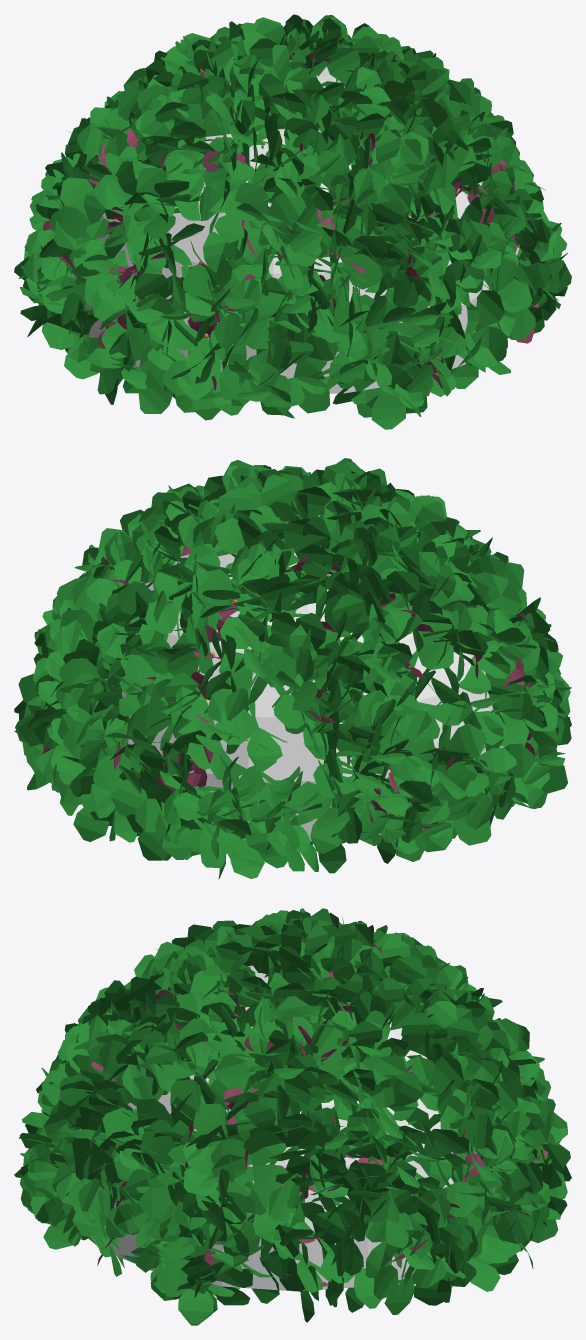
File: bush_berries.fbx
3 renders of one model, top to bottom at view 1: azimuth 30°, elevation 25°; view 2: azimuth 150°, elevation 25°; view 3: azimuth 270°, elevation 25°, orthographic.
Visible parts, largest first — view 1: Sphere.001, Sphere.001|leaf|Dupli|709, Sphere.001|leaf|Dupli|798, Sphere.001|leaf|Dupli|305, Sphere.001|leaf|Dupli|56, Sphere.001|leaf|Dupli|568, Sphere.001|leaf|Dupli|214, Sphere.001|leaf|Dupli|563, Sphere.001|leaf|Dupli|4, Sphere.001|leaf|Dupli|210, Sphere.001|leaf|Dupli|539, Sphere.001|leaf|Dupli|731 (+124 smaller); view 2: Sphere.001, Sphere.001|leaf|Dupli|613, Sphere.001|leaf|Dupli|175, Sphere.001|leaf|Dupli|443, Sphere.001|leaf|Dupli|548, Sphere.001|leaf|Dupli|58, Sphere.001|leaf|Dupli|355, Sphere.001|leaf|Dupli|142, Sphere.001|leaf|Dupli|167, Sphere.001|leaf|Dupli|50, Sphere.001|leaf|Dupli|120, Sphere.001|leaf|Dupli|179 (+111 smaller); view 3: Sphere.001, Sphere.001|leaf|Dupli|290, Sphere.001|leaf|Dupli|788, Sphere.001|leaf|Dupli|738, Sphere.001|leaf|Dupli|344, Sphere.001|leaf|Dupli|625, Sphere.001|leaf|Dupli|102, Sphere.001|leaf|Dupli|67, Sphere.001|leaf|Dupli|121, Sphere.001|leaf|Dupli|116, Sphere.001|leaf|Dupli|41, Sphere.001|leaf|Dupli|38 (+118 smaller).
Part boxes in pixels (x1,y1,x2,y2): Sphere.001: [71, 66, 519, 393]; Sphere.001|leaf|Dupli|709: [234, 182, 305, 228]; Sphere.001|leaf|Dupli|798: [351, 377, 433, 429]; Sphere.001|leaf|Dupli|305: [50, 190, 105, 262]; Sphere.001|leaf|Dupli|56: [320, 216, 382, 289]; Sphere.001|leaf|Dupli|568: [260, 357, 330, 415]; Sphere.001|leaf|Dupli|214: [475, 290, 507, 361]; Sphere.001|leaf|Dupli|563: [182, 232, 225, 300]; Sphere.001|leaf|Dupli|4: [165, 153, 204, 220]; Sphere.001|leaf|Dupli|210: [138, 345, 194, 413]; Sphere.001|leaf|Dupli|539: [163, 319, 221, 377]; Sphere.001|leaf|Dupli|731: [54, 177, 93, 250]; Sphere.001: [105, 515, 504, 841]; Sphere.001|leaf|Dupli|613: [134, 673, 198, 750]; Sphere.001|leaf|Dupli|175: [438, 723, 486, 795]; Sphere.001|leaf|Dupli|443: [401, 613, 453, 676]; Sphere.001|leaf|Dupli|548: [210, 748, 300, 810]; Sphere.001|leaf|Dupli|58: [484, 651, 532, 724]; Sphere.001|leaf|Dupli|355: [273, 673, 328, 758]; Sphere.001|leaf|Dupli|142: [291, 781, 340, 853]; Sphere.001|leaf|Dupli|167: [93, 718, 128, 792]; Sphere.001|leaf|Dupli|50: [175, 686, 222, 752]; Sphere.001|leaf|Dupli|120: [207, 652, 257, 723]; Sphere.001|leaf|Dupli|179: [221, 688, 276, 771]; Sphere.001: [88, 965, 494, 1291]; Sphere.001|leaf|Dupli|290: [217, 1143, 288, 1199]; Sphere.001|leaf|Dupli|788: [488, 1205, 534, 1274]; Sphere.001|leaf|Dupli|738: [150, 1262, 240, 1323]; Sphere.001|leaf|Dupli|344: [420, 1156, 478, 1227]; Sphere.001|leaf|Dupli|625: [371, 1073, 430, 1130]; Sphere.001|leaf|Dupli|102: [384, 1258, 446, 1314]; Sphere.001|leaf|Dupli|67: [181, 1256, 252, 1305]; Sphere.001|leaf|Dupli|121: [407, 1055, 464, 1128]; Sphere.001|leaf|Dupli|116: [345, 1242, 398, 1312]; Sphere.001|leaf|Dupli|41: [170, 1078, 241, 1136]; Sphere.001|leaf|Dupli|38: [125, 1041, 199, 1106].
Bounding box in the file's own units: 233 × 137 × 233.
